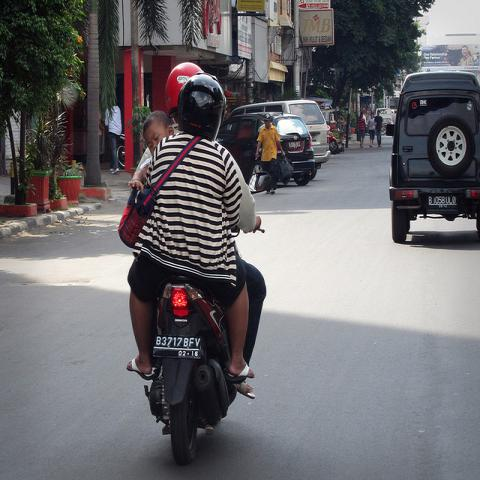car: (386, 68, 480, 244), (218, 112, 318, 185), (245, 97, 333, 176), (272, 115, 314, 159), (323, 109, 349, 133), (377, 107, 394, 124), (392, 108, 398, 114)
motorcycle: (139, 274, 239, 466)
